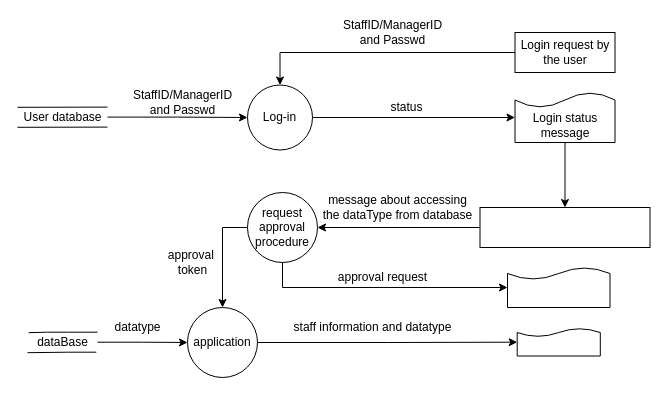
This 668x395 diagram has some shape labels left out. The centre of each missing label's shape, as x and y in pixels:
approval request by the staff who has been logged in: the point at 564,227
Log output: the point at 558,341
request output: the point at 558,287
